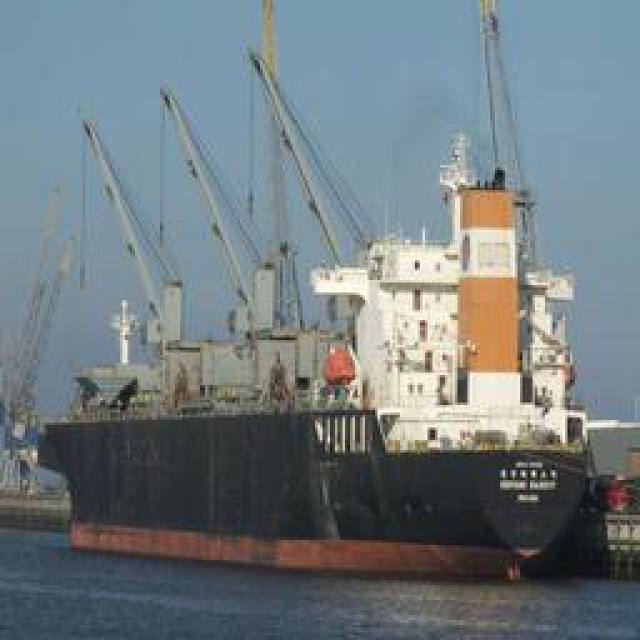Ship: (70, 41, 620, 569)
